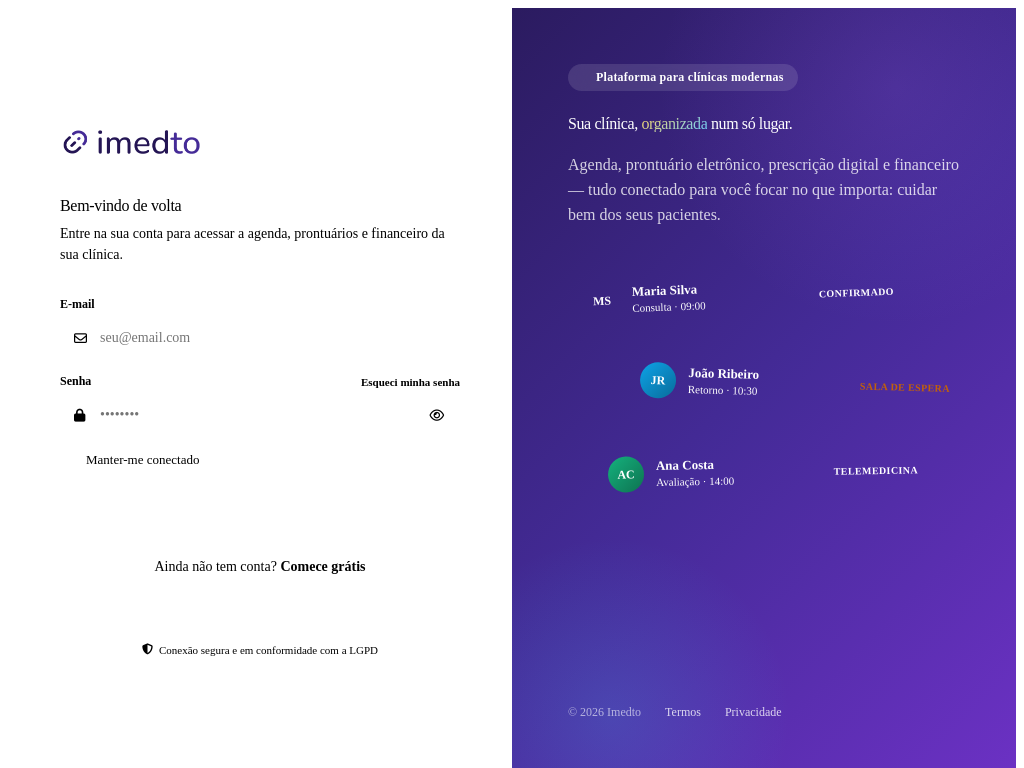
it: LoginView — Correção 4 (anti-enumeração: reenvio sempre visível) › após erro no login, exibe botão de reenviar confirmação (mostrarReenvio = true)
Type "joao@imedto.com" into the field labelled "E-mail" at (287, 338), box [60,318,514,358]
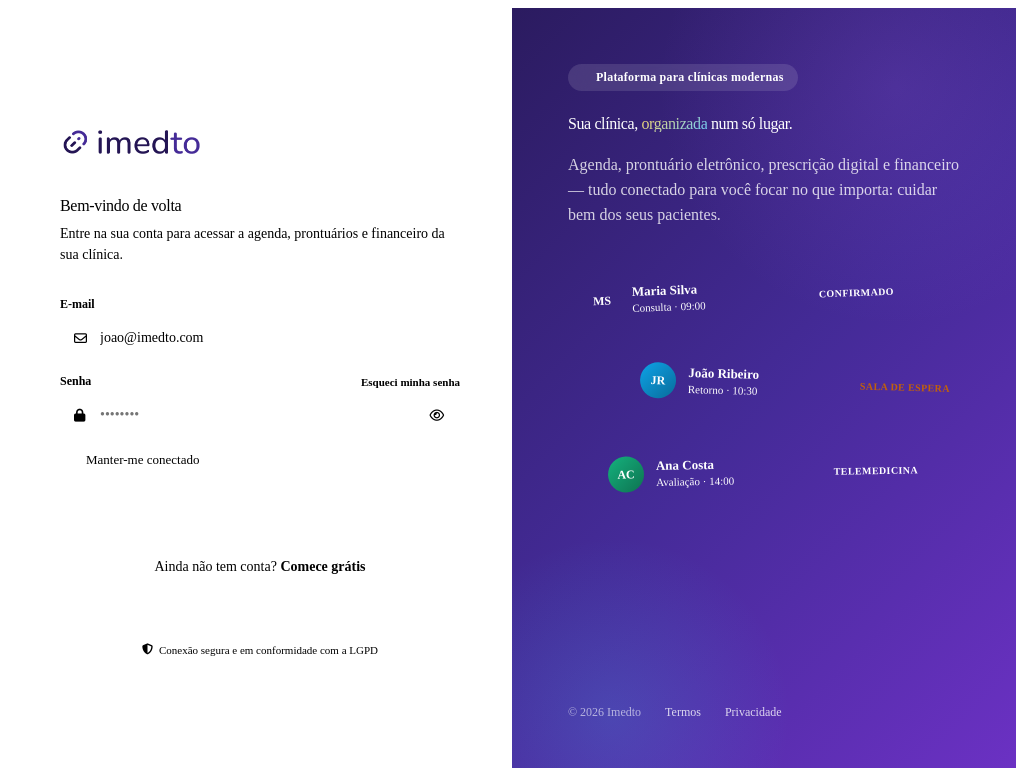
Type "senha123" into the password field labelled "Senha Esqueci minha senha" at (287, 415), box [60,395,514,435]
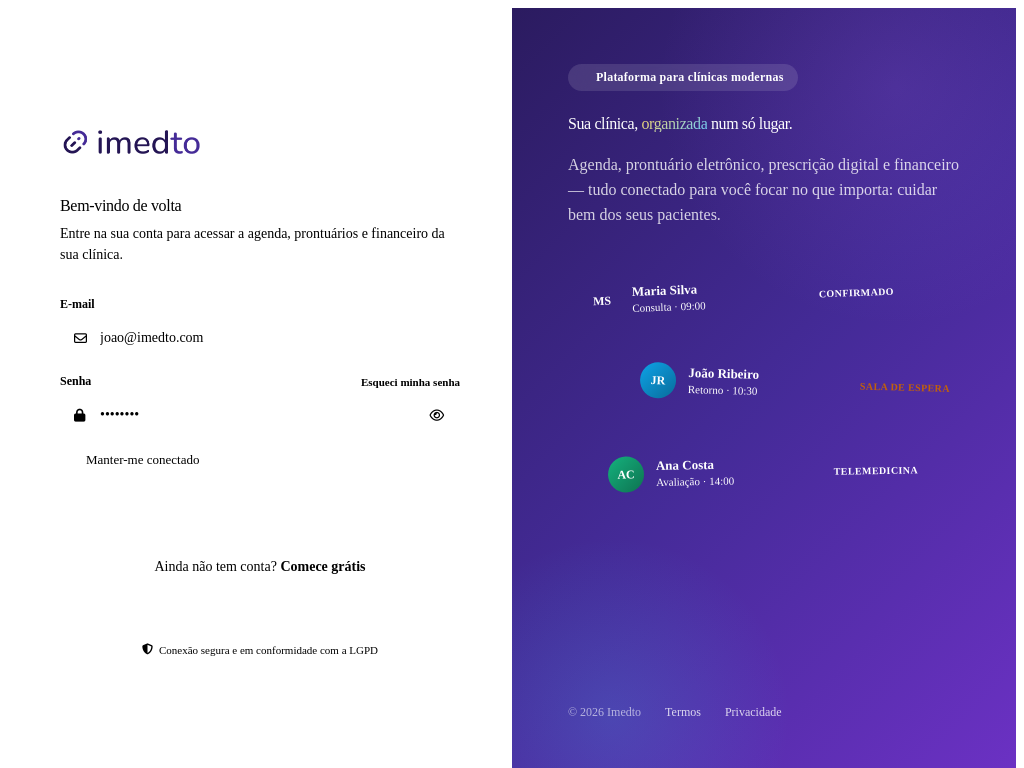
Submit the form, box [60,197,460,575]
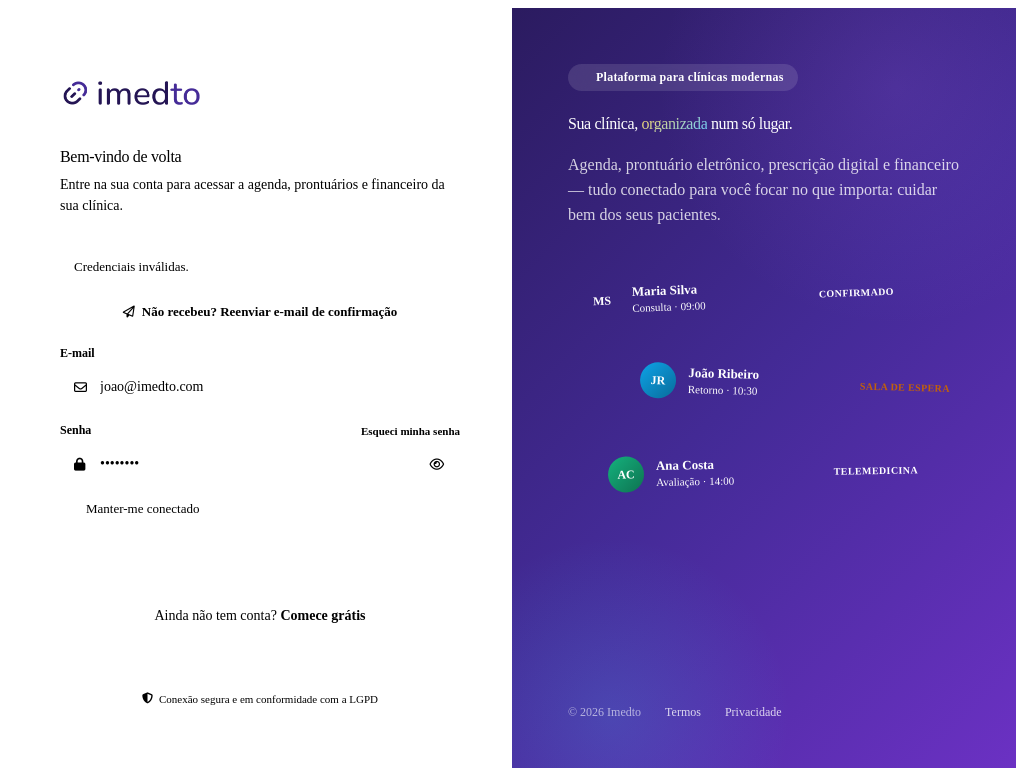
Expected: the text "Reenviar e-mail de confirmação" is shown, [109,296,411,328]
